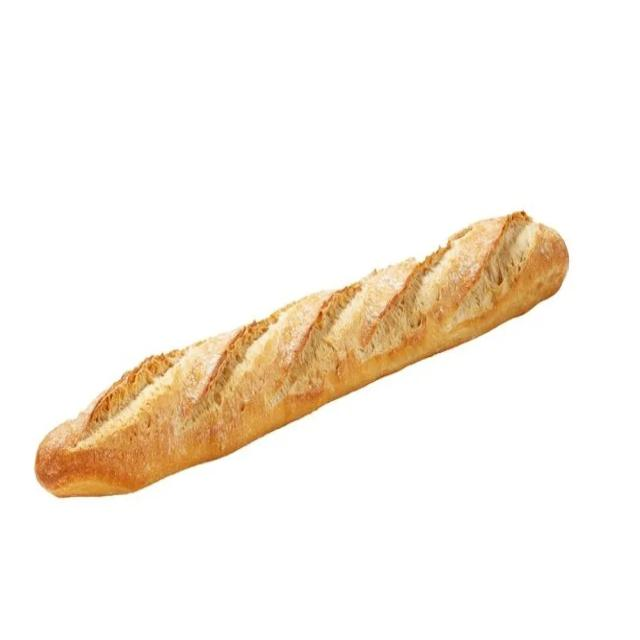Baguette: (35, 211, 568, 496)
